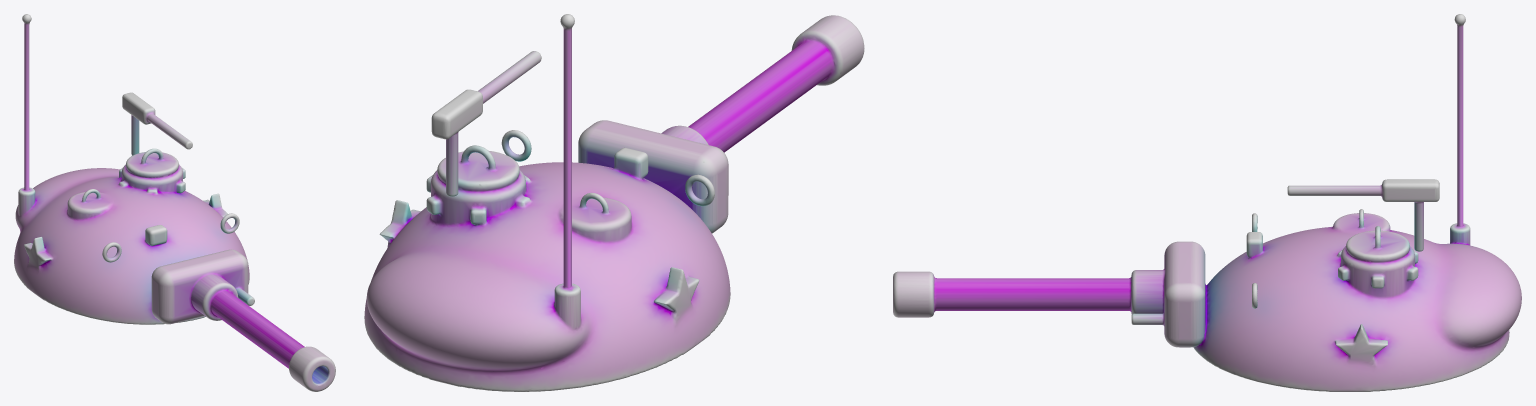
The model's file is tank-turret.glb.
The picture shows the model from 3 angles, left to right: view 1: azimuth 30°, elevation 25°; view 2: azimuth 150°, elevation 25°; view 3: azimuth 270°, elevation 25°; orthographic projection. The views are drawn at different scales.
Visible parts, largest first — view 1: tank-turret; view 2: tank-turret; view 3: tank-turret.
Boxes of the visible parts, x1,y1,x2,y2 form: tank-turret: (14,14,335,391); tank-turret: (364,14,864,391); tank-turret: (893,14,1521,391).
Size of the model in its own units: 0.6597 by 0.7686 by 1.53.
